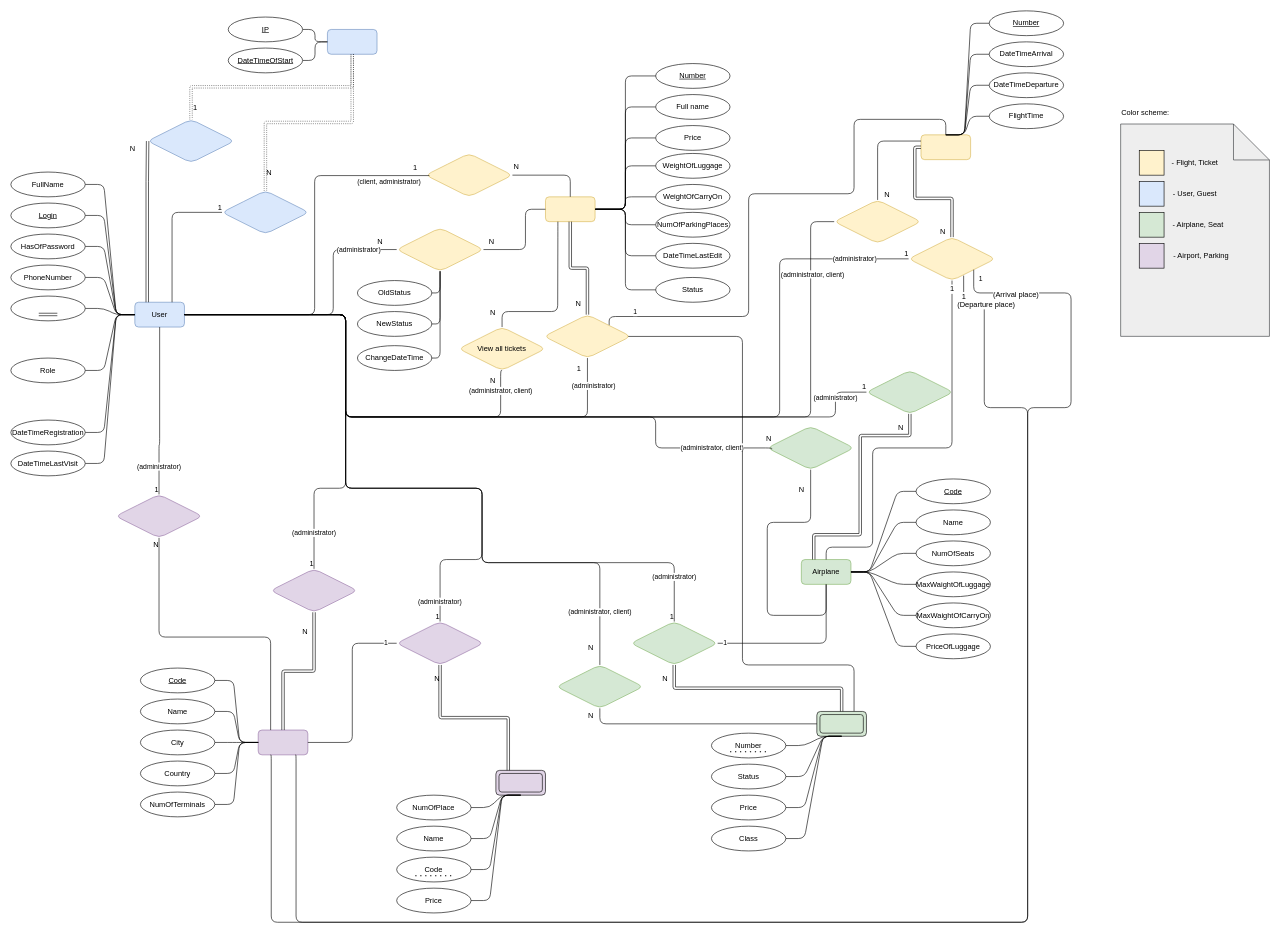
This 1280x934 diagram has some shape labels left out. Here are the shapes that lost their labels. From the top down, the centre of each, then its label:
At (352,41): "Guest".
At (190,141): "Registration new user".
At (945,147): "Flight".
At (468,175): "Buy ticket".
At (265,212): "Authorisation as user".
At (570,209): "Ticket".
At (877,221): "View all flights".
At (439,249): "Change ticket status".
At (951,259): "Creat flight".
At (47,308): "Email".
At (587,336): "Create ticket".
At (909,392): "Add airplane".
At (810,448): "View all airplanes".
At (158,516): "Delete airport".
At (313,590): "Add airport".
At (439,643): "Add parking".
At (674,643): "Add seat".
At (599,686): "View all seats".
At (283,742): "Airport".
At (841,723): "Seat".
At (520,782): "Parking".
